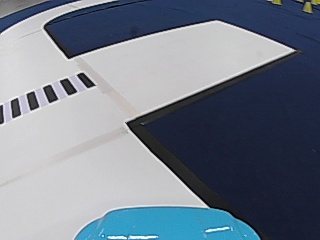CrossWalk: (4, 71, 92, 120)
